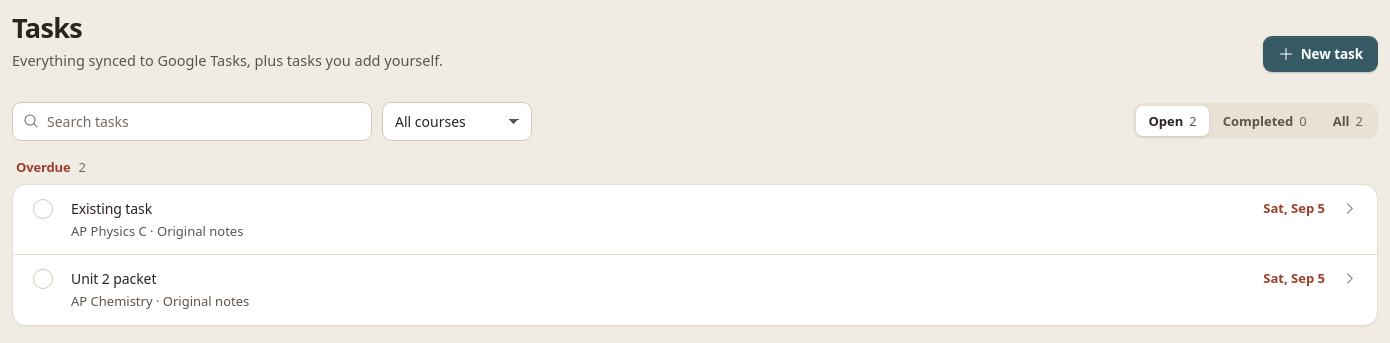
TasksPage › shows tasks from every course by default and filters by course
Check: the text "Existing task" is shown, box [71,199,152,218]
Check: the text "Unit 2 packet" is shown, box [71,269,156,288]
Select "AP Chemistry" in the dropdown named "Course filter": (457, 121) [382,102,532,141]
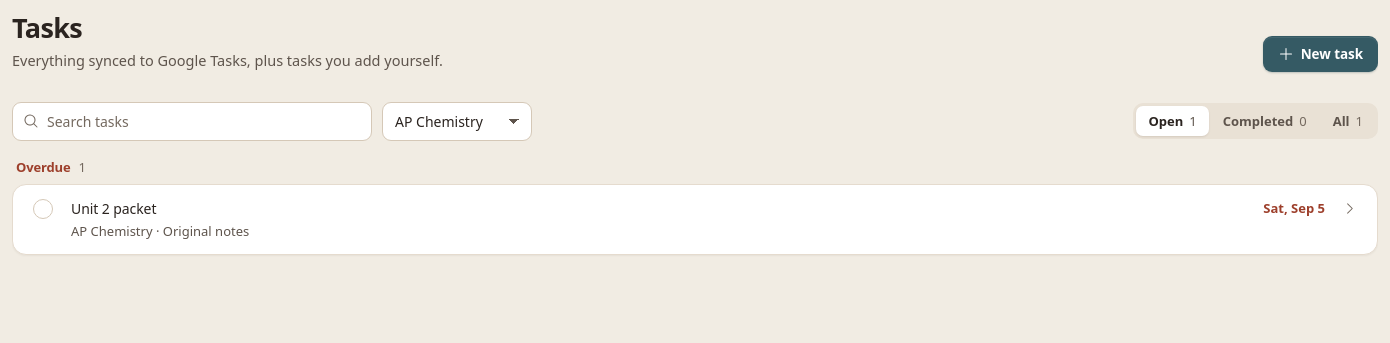
Check: the text "Unit 2 packet" is shown, box [71,199,156,218]
Check: the button "Existing task" is gone
